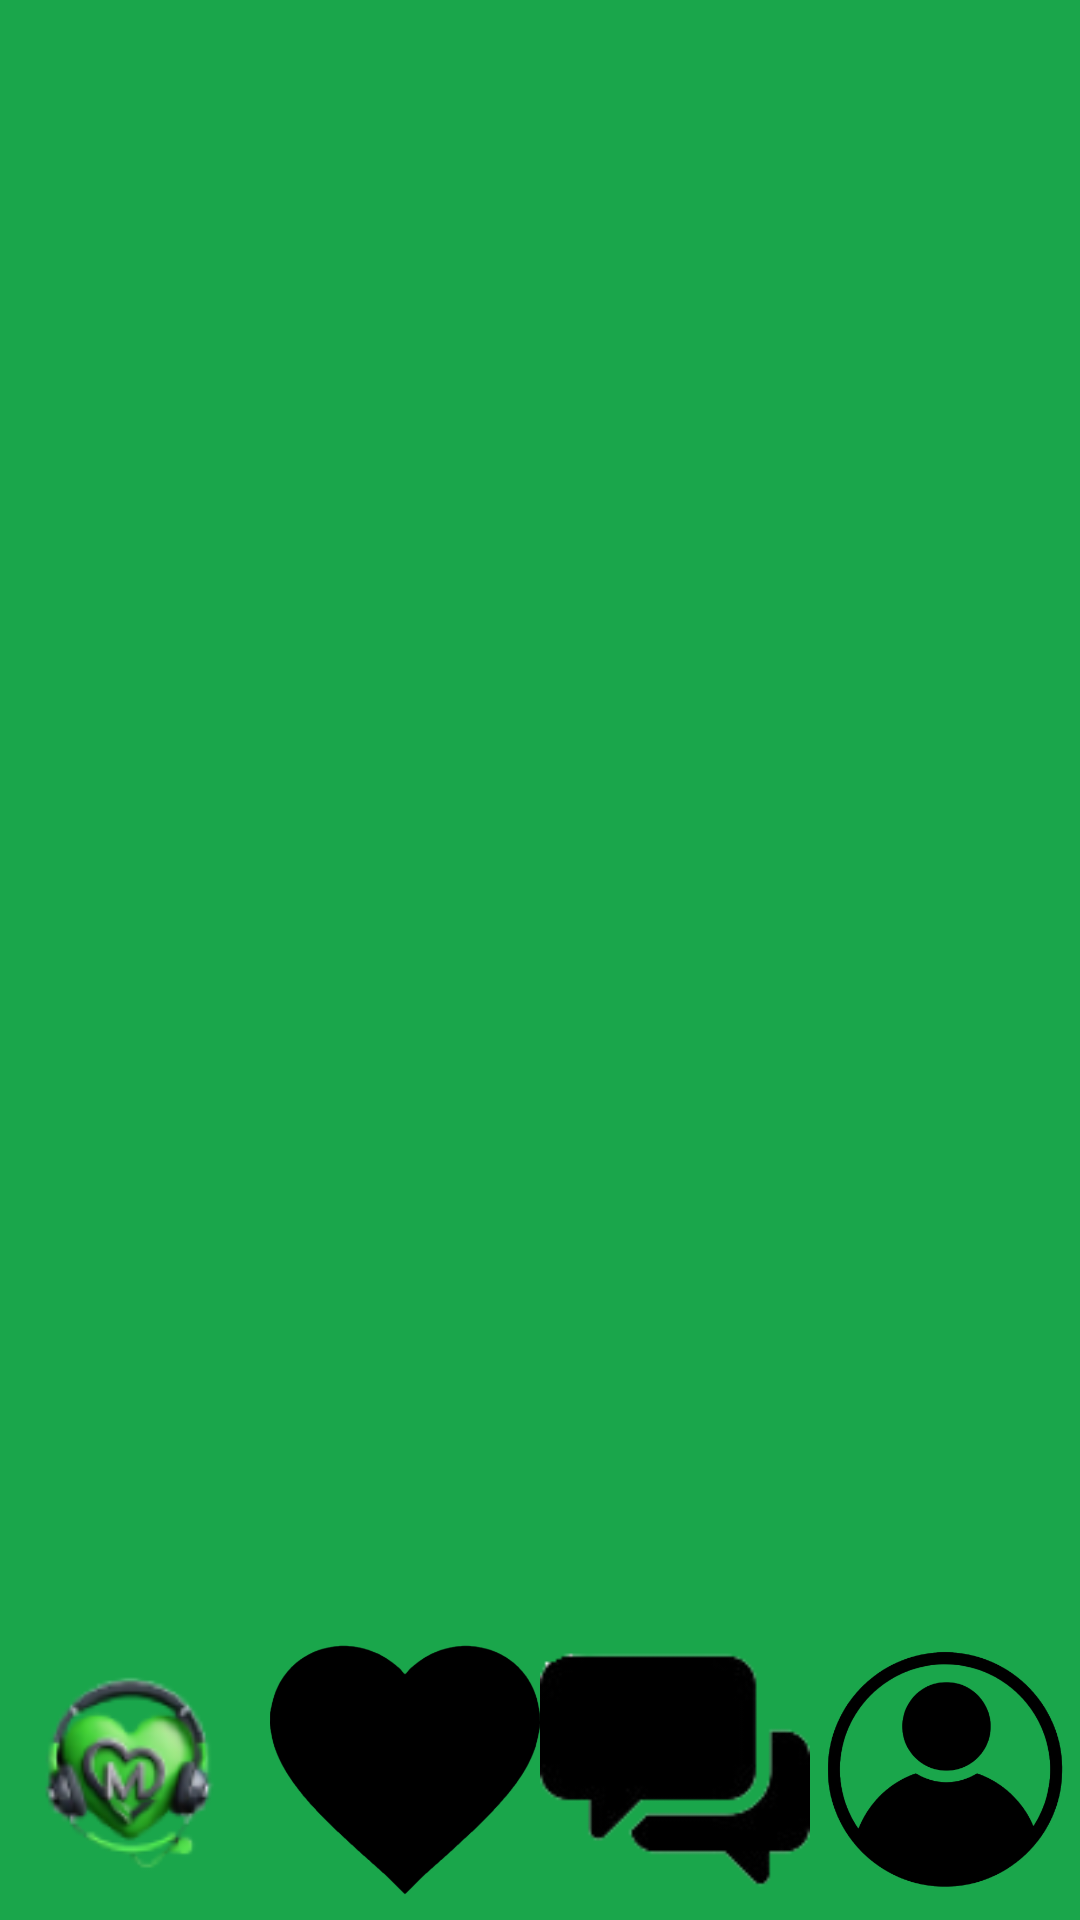

Icon click points for this 1080x1920 phone screenshot, format point (x, y):
Chat: point (675, 1768)
Liked You: point (405, 1769)
Match: point (129, 1772)
Profile: point (945, 1769)
